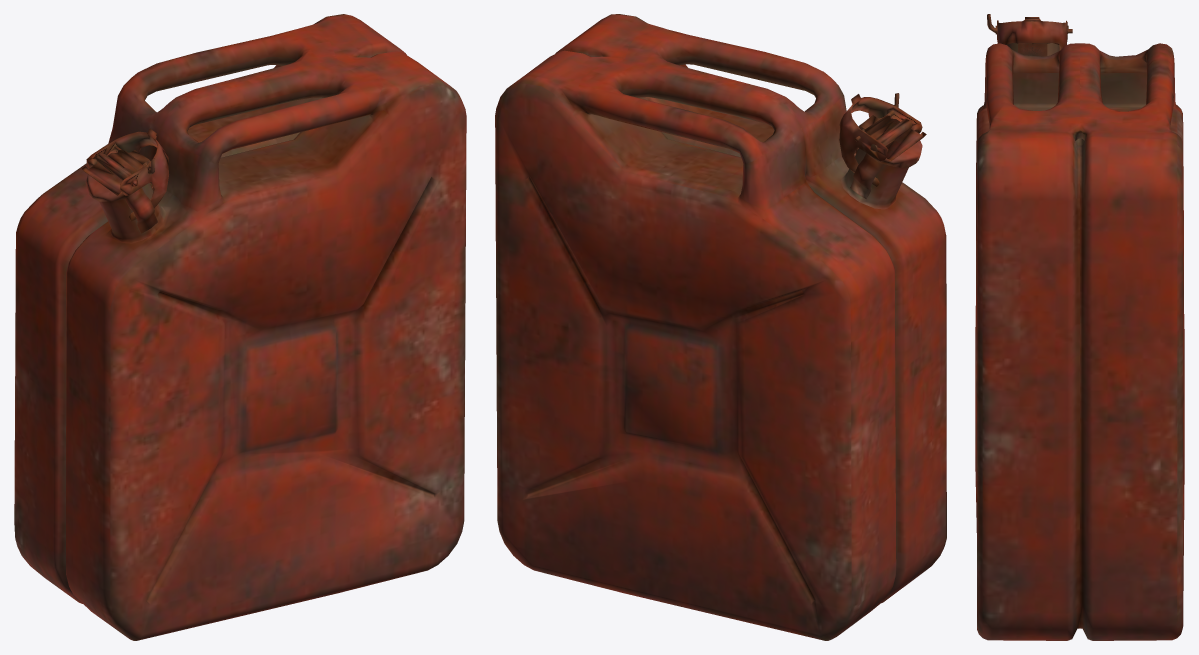
File: metal_jerrycan.glb
3 views of the same model, side by side, from view 1: azimuth 30°, elevation 25°; view 2: azimuth 150°, elevation 25°; view 3: azimuth 270°, elevation 25° (orthographic). The views are drawn at different scales.
Visible parts, largest first — view 1: metal_jerrycan; view 2: metal_jerrycan; view 3: metal_jerrycan.
Part boxes in pixels (x1,y1,x2,y2): metal_jerrycan: (14,14,466,640); metal_jerrycan: (495,14,946,640); metal_jerrycan: (975,14,1184,640).
Size of the model in its own units: 0.35 by 0.4548 by 0.1717.
Materials: 1 (1 with a texture image).
